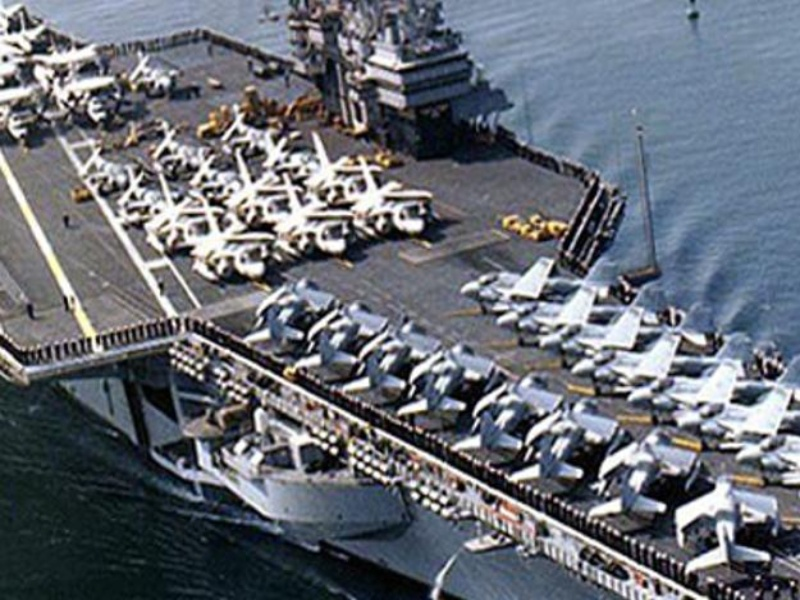carrier: (13, 22, 796, 591)
